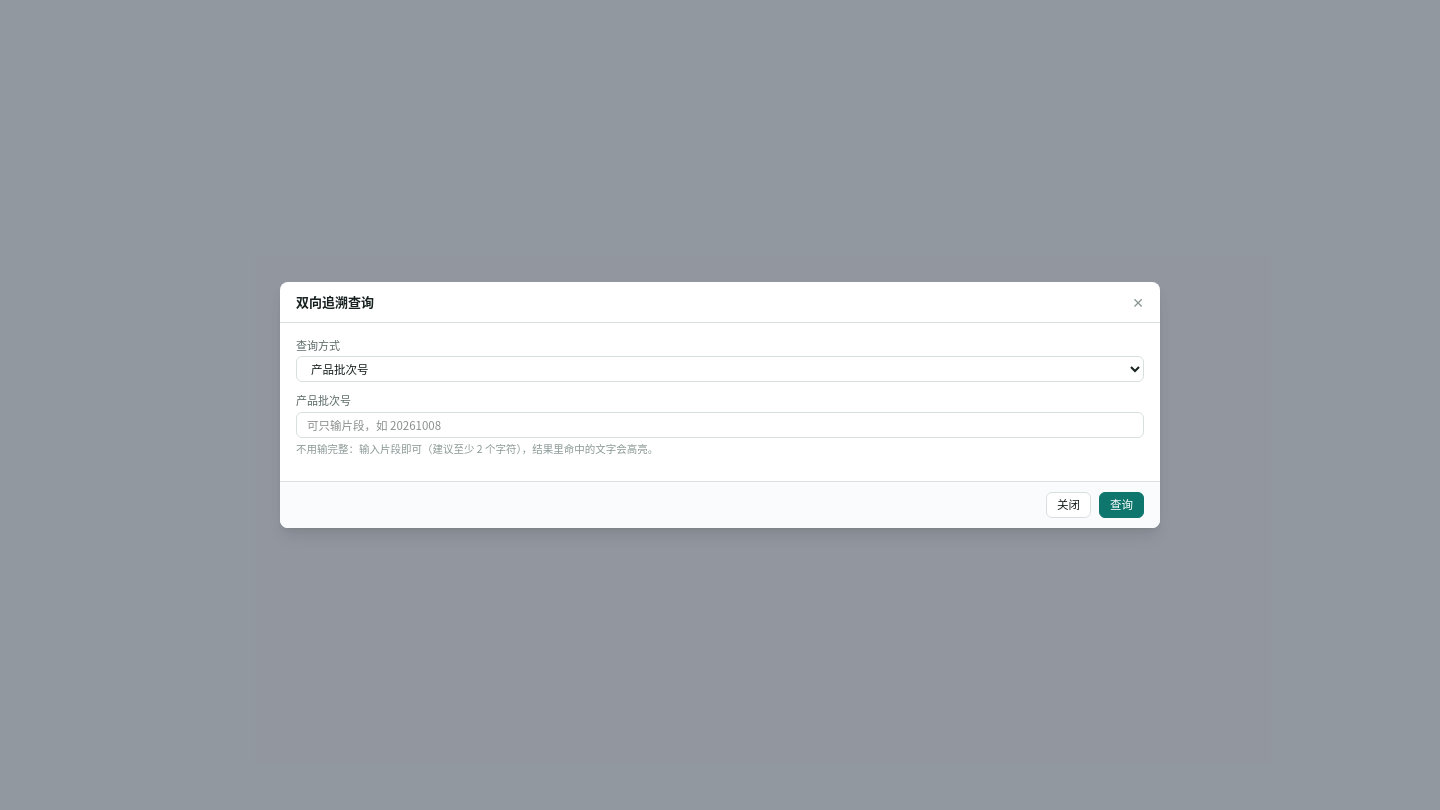
Test case: 产品批次号：部分匹配，输片段即带 match=partial 查询
Select "产品批次号" in the dropdown labelled "查询方式" at (720, 369), box 296,356 -> 1144,382
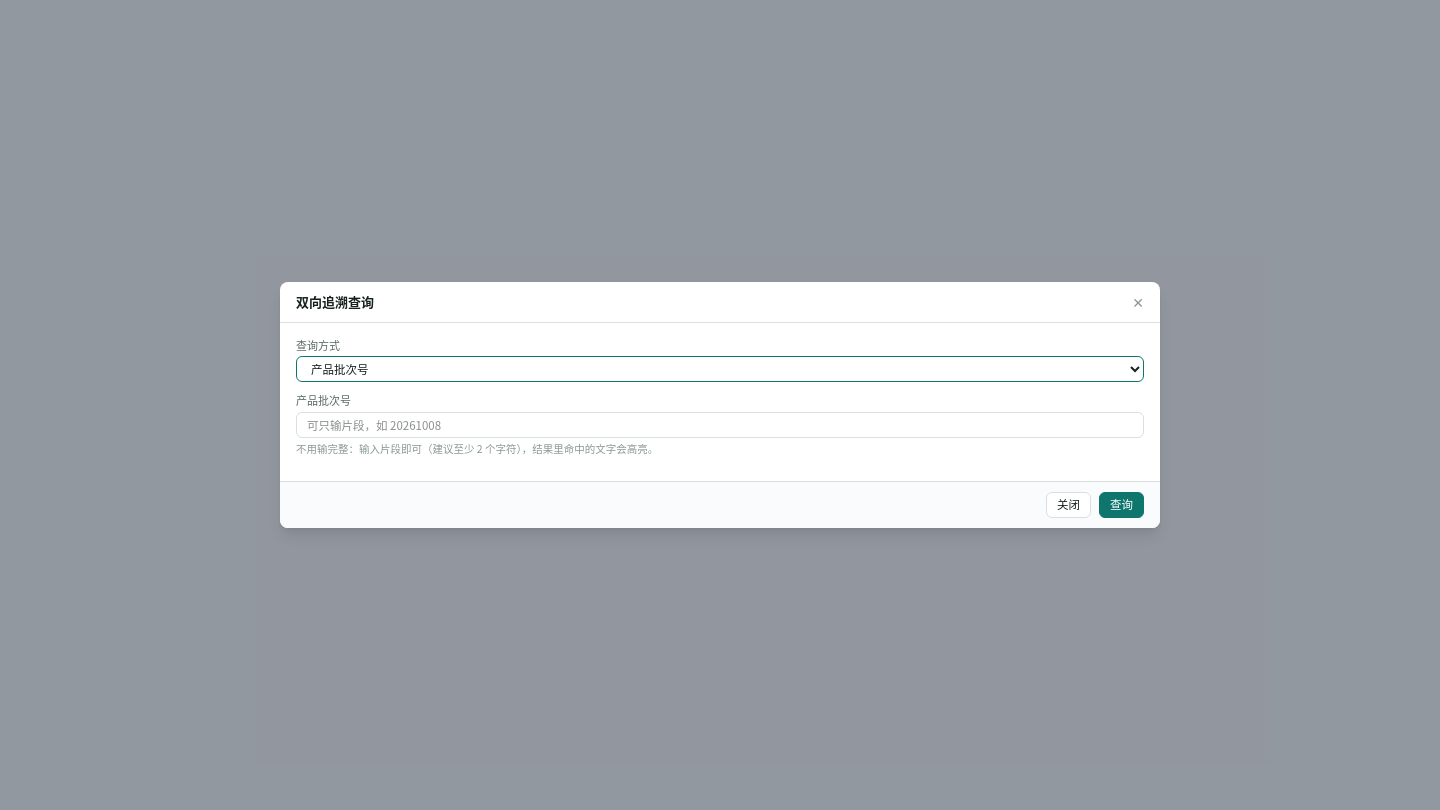
Expected: the number of dropdowns is 1, 296,356 -> 1144,382
Type "成品" into the field with placeholder "可只输片段，如 20261008" at (720, 425), box 296,412 -> 1144,438
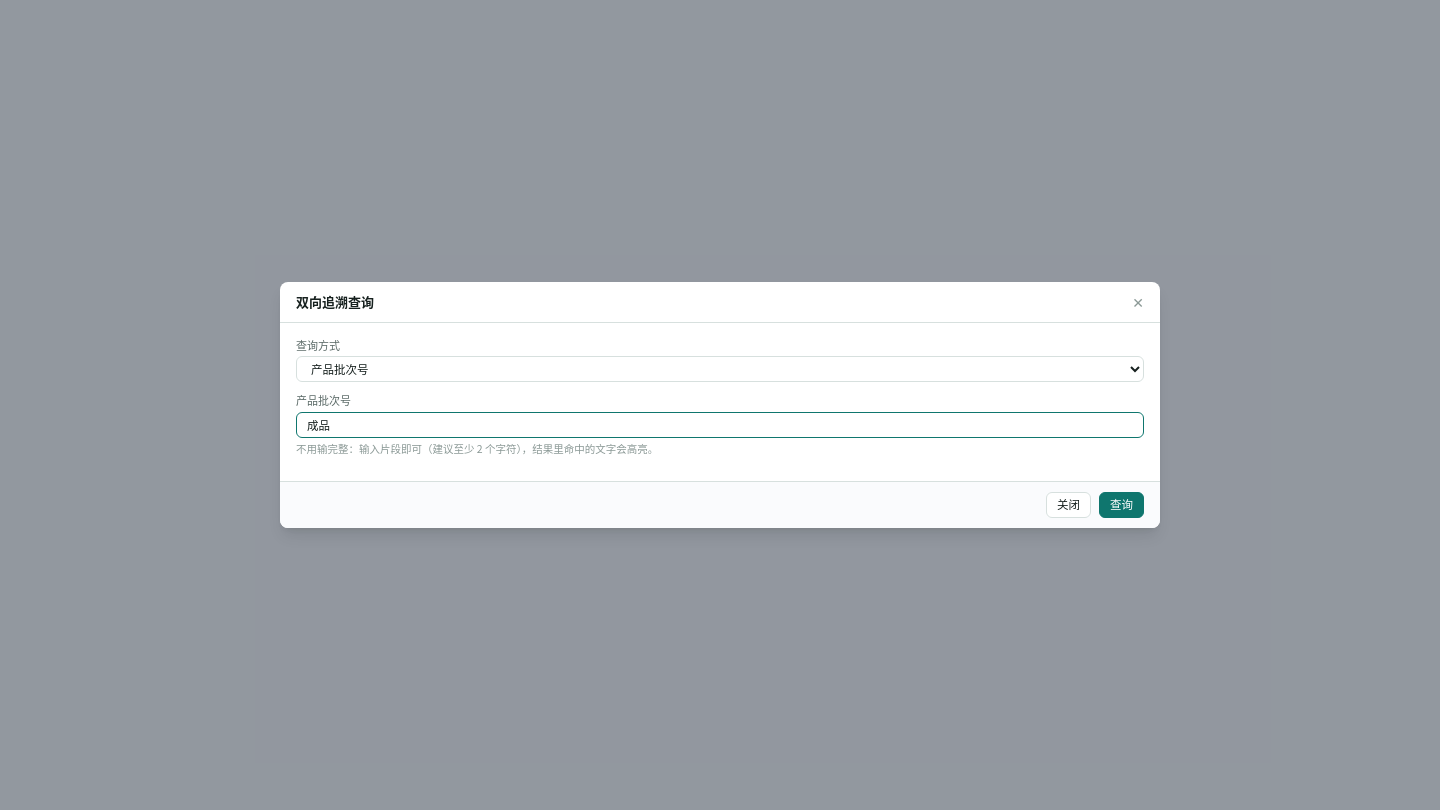
Click the button "查询" at (1122, 505), box 1099,492 -> 1144,518
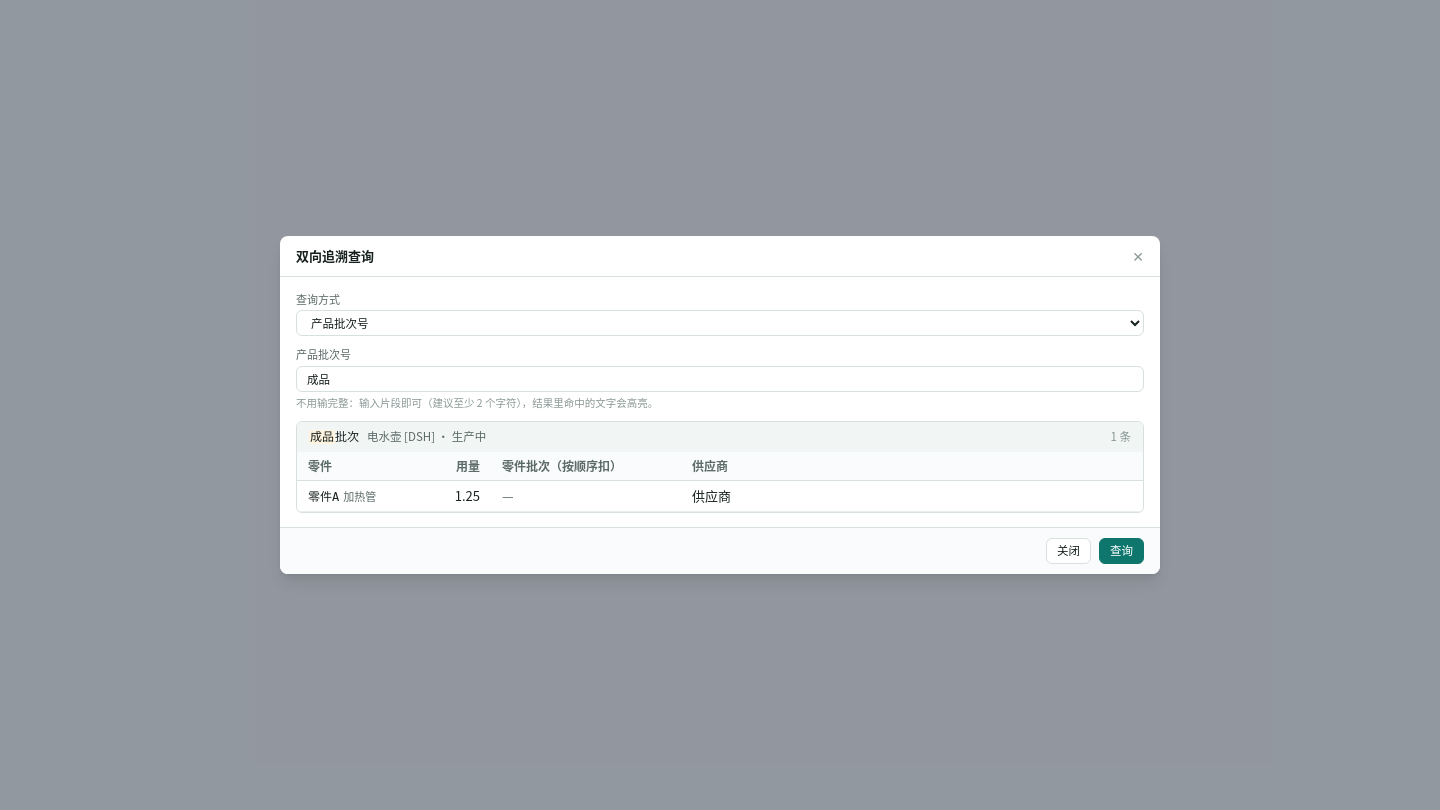
Expected: the text "电水壶" is shown, 367,428 -> 402,444
Expected: the text "零件A" is shown, 308,490 -> 339,504
Expected: the text "1.25" is shown, 407,480 -> 491,511
